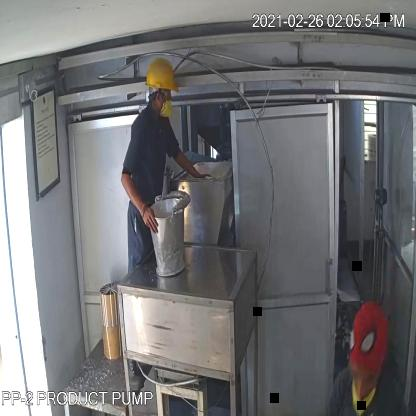helmet: (143, 56, 181, 99)
